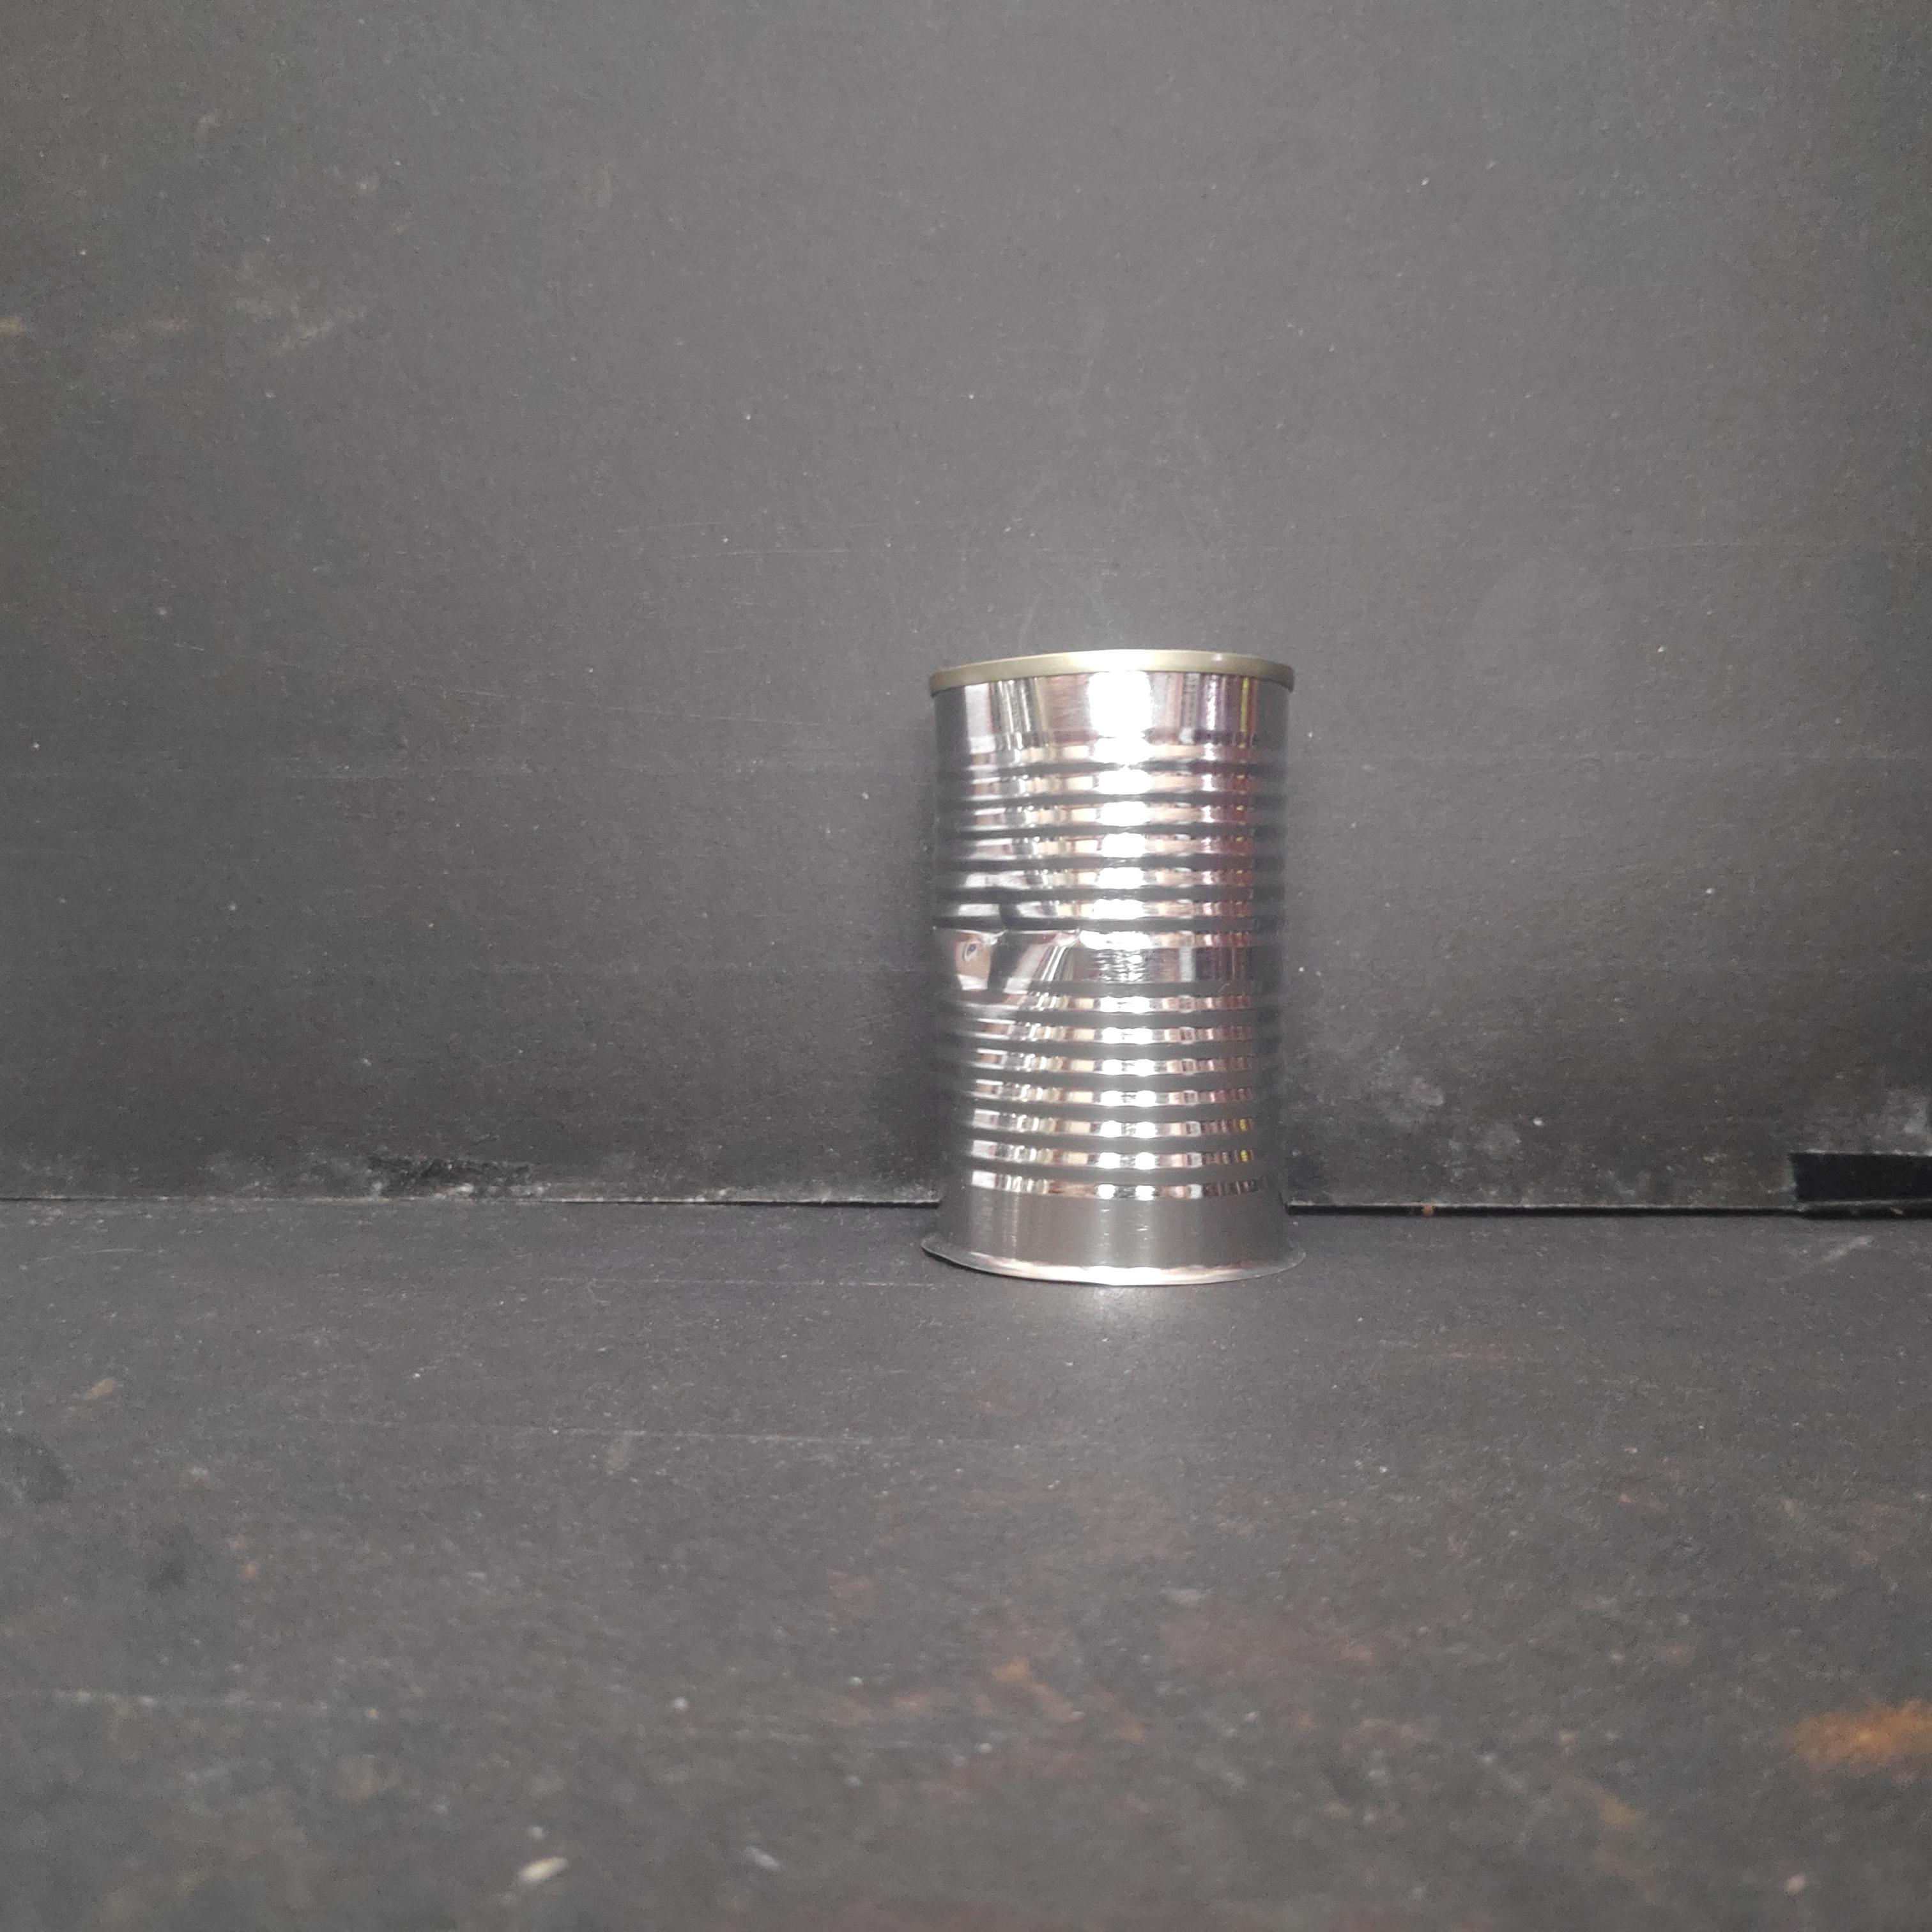Minor Defect: (918, 640, 1300, 1304)
